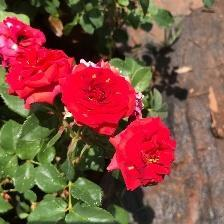rose: (59, 64, 137, 137), (108, 110, 173, 186), (6, 47, 67, 104)
